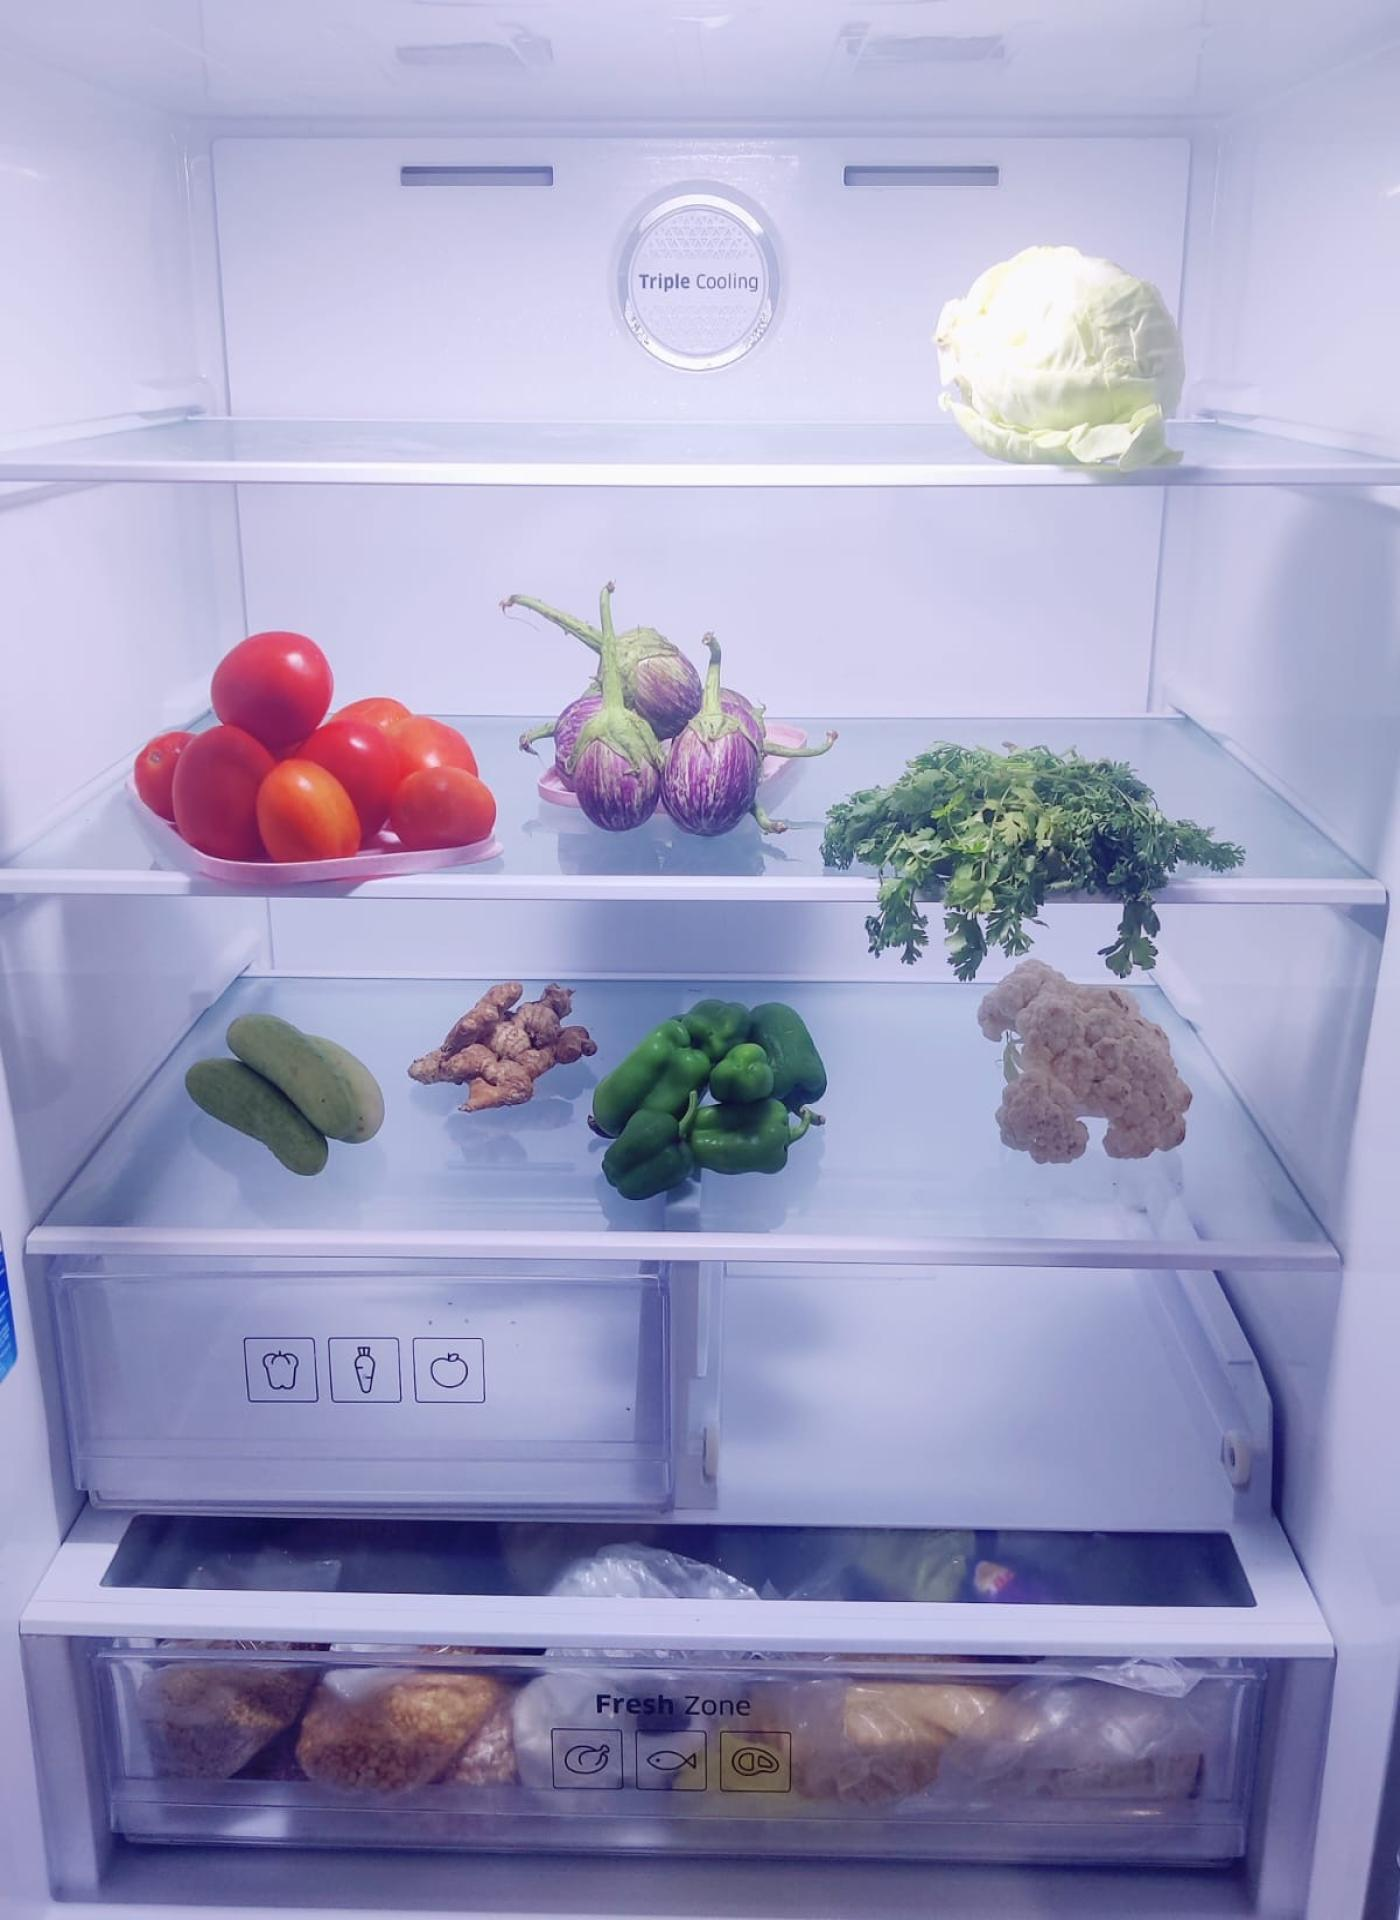brinjal: (549, 613, 765, 827)
cabbage: (936, 239, 1188, 453)
capsicum: (598, 996, 830, 1193)
cauliflower: (983, 961, 1191, 1158)
coriander: (829, 742, 1230, 918)
cucumber: (188, 1008, 388, 1170)
ginger: (412, 979, 596, 1114)
tomato: (140, 620, 496, 857)
